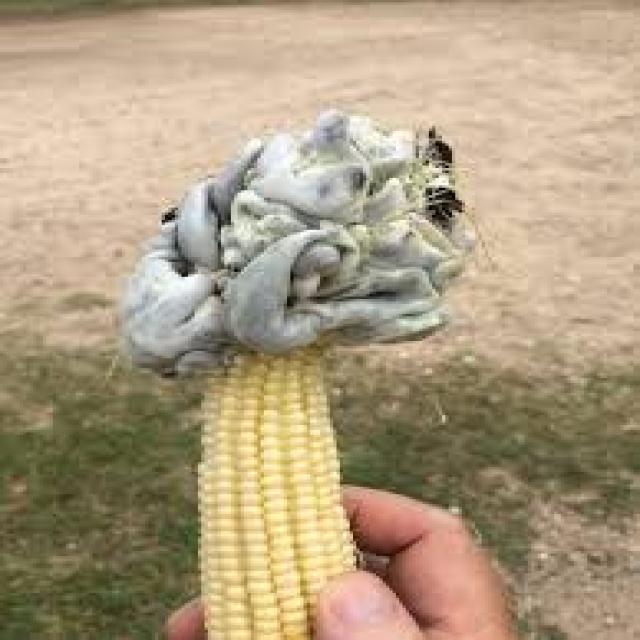Leaf_Scald: (61, 73, 571, 458)
